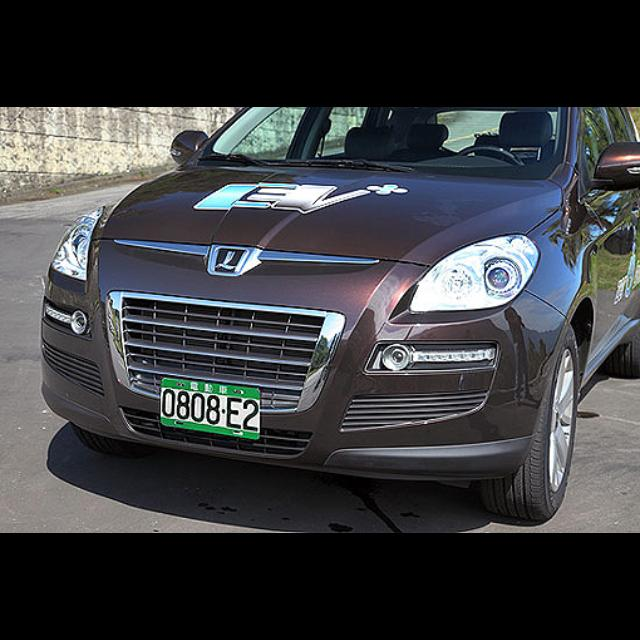plate: (160, 378, 260, 441)
